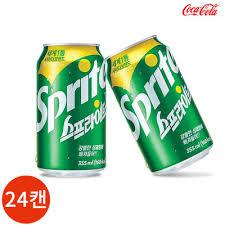sprite: (110, 31, 216, 181), (34, 41, 110, 181)
